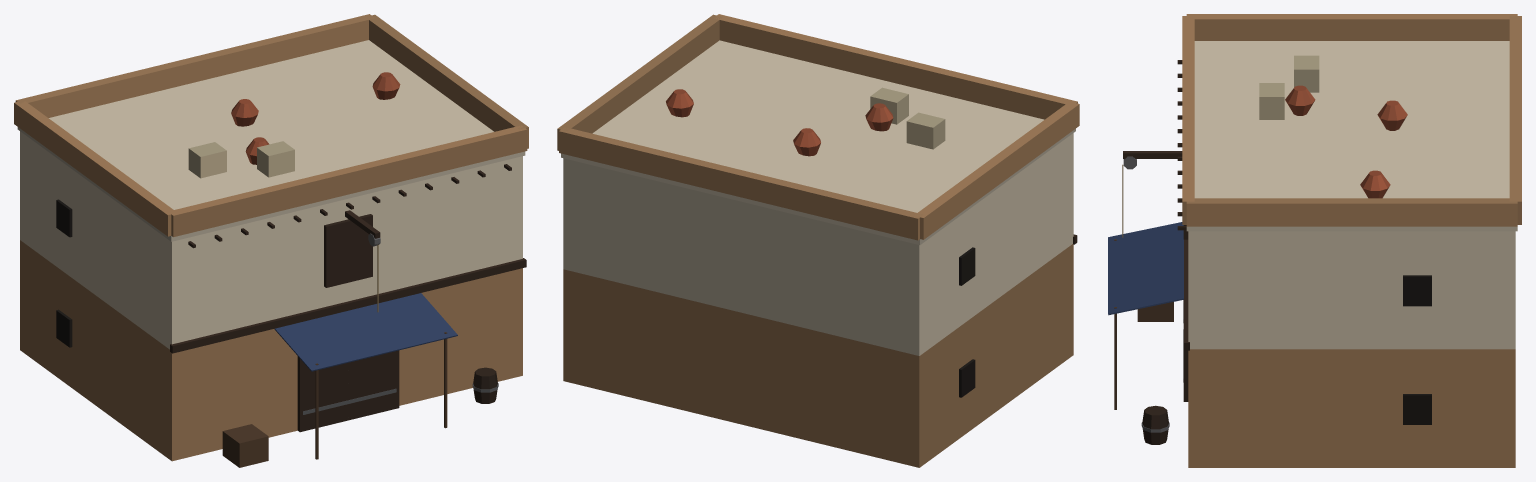
The model's file is walk_sunborn_warehouse.glb.
The picture shows the model from 3 angles, left to right: view 1: azimuth 30°, elevation 25°; view 2: azimuth 150°, elevation 25°; view 3: azimuth 270°, elevation 25°; orthographic projection. The views are drawn at different scales.
Parts seen in each view (by area): view 1: walk_sunborn_warehouse, walk_sunborn_warehouse_roof; view 2: walk_sunborn_warehouse, walk_sunborn_warehouse_roof; view 3: walk_sunborn_warehouse, walk_sunborn_warehouse_roof.
Boxes of the visible parts, x1=… form: walk_sunborn_warehouse: x1=20, y1=72, x2=526, y2=467; walk_sunborn_warehouse_roof: x1=14, y1=14, x2=528, y2=241; walk_sunborn_warehouse: x1=563, y1=87, x2=1077, y2=467; walk_sunborn_warehouse_roof: x1=557, y1=14, x2=1079, y2=244; walk_sunborn_warehouse: x1=1108, y1=55, x2=1515, y2=467; walk_sunborn_warehouse_roof: x1=1182, y1=14, x2=1521, y2=231.
Size of what is drawn, in the model's own units: 12.34 by 8.15 by 11.38.
Materials: 2 (2 with a texture image).
